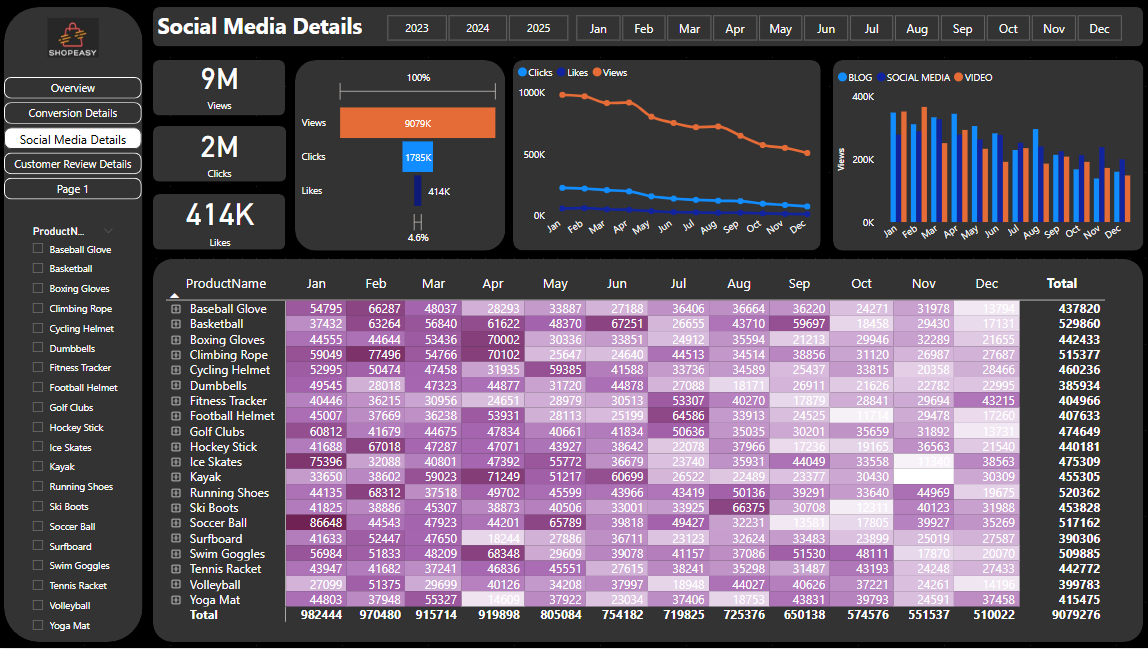

Layout of this report page (visuals, bound fields, positions):
{"tool":"powerbi","page":{"name":"Social Media Details","canvas":[1280,720],"ordinal":2},"visuals":[{"type":"shape","box":[172.1,288,1100.4,425.7],"z":0},{"type":"shape","box":[927.4,66.1,345.1,211.9],"z":1000},{"type":"shape","box":[172.1,8.2,1100.4,44.4],"z":2000},{"type":"shape","box":[172.1,66.1,146.7,61.6],"z":3000},{"type":"shape","box":[172.1,140.4,147.6,62.5],"z":4000},{"type":"card","fields":{"Values":["Key Measures.Clicks"]},"box":[185.7,131.3,121.4,71.5],"z":5000},{"type":"shape","box":[172.1,215.5,146.7,62.5],"z":6000},{"type":"card","fields":{"Values":["Key Measures.Views"]},"box":[197.4,55.2,96.9,72.5],"z":7000},{"type":"card","fields":{"Values":["Key Measures.Likes"]},"box":[182,207.4,128.6,70.6],"z":8000},{"type":"textbox","box":[172.1,6.3,255.4,55.2],"z":9000},{"type":"shape","box":[572.4,66.1,342.3,211.9],"z":10000},{"type":"lineChart","fields":{"Category":["Calendar.MonthNameShort"],"Y":["Key Measures.Clicks","Key Measures.Likes","Key Measures.Views"]},"box":[572.4,61.6,342.3,211.9],"z":11000},{"type":"clusteredColumnChart","fields":{"Category":["Calendar.MonthNameShort"],"Y":["Key Measures.Views"],"Series":["fact_engagement_data.ContentType"]},"box":[927.4,66.1,345.1,211.9],"z":12000},{"type":"shape","box":[329.7,66.1,233.7,211.9],"z":13000},{"type":"funnel","fields":{"Y":["Key Measures.Views","Key Measures.Clicks","Key Measures.Likes"]},"box":[332.4,71.5,230.9,206.5],"z":14000},{"type":"pivotTable","fields":{"Rows":["dim_products.ProductName","fact_engagement_data.ContentType"],"Columns":["Calendar.MonthNameShort"],"Values":["Key Measures.Views"]},"box":[181.1,298.9,1082.3,403.9],"z":15000},{"type":"shape","box":[6.3,8.2,154,705.5],"z":16000},{"type":"image","box":[49.8,8.2,67,67],"z":17000},{"type":"slicer","fields":{"Values":["dim_products.ProductName"]},"box":[18.1,324.2,129.5,389.4],"z":18000},{"type":"slicer","fields":{"Values":["Calendar.MonthNameShort"]},"box":[617.1,10.1,655.5,42.1],"z":19000},{"type":"slicer","fields":{"Values":["Calendar.Year"]},"box":[406.6,10,250.9,41.7],"z":20000},{"type":"pageNavigator","box":[11.8,174.8,143.1,138.6],"z":21000},{"type":"image","box":[55.2,96.9,55.2,50.7],"z":22000}]}

Visuals, with their boxes on the page's 1280x720 design canvas (x1, y1, x2, y2). These are canvas units, not pixel positions in the 1148x649 screenshot, which may show the page scaled, cropped or inside an application window:
shape: select_region(172, 288, 1272, 714)
shape: select_region(927, 66, 1272, 278)
shape: select_region(172, 8, 1272, 53)
shape: select_region(172, 66, 319, 128)
shape: select_region(172, 140, 320, 203)
card - Key Measures.Clicks: select_region(186, 131, 307, 203)
shape: select_region(172, 216, 319, 278)
card - Key Measures.Views: select_region(197, 55, 294, 128)
card - Key Measures.Likes: select_region(182, 207, 311, 278)
textbox: select_region(172, 6, 428, 62)
shape: select_region(572, 66, 915, 278)
lineChart - Calendar.MonthNameShort x Key Measures.Clicks: select_region(572, 62, 915, 274)
clusteredColumnChart - Calendar.MonthNameShort x Key Measures.Views: select_region(927, 66, 1272, 278)
shape: select_region(330, 66, 563, 278)
funnel - Key Measures.Views x Key Measures.Clicks: select_region(332, 72, 563, 278)
pivotTable - dim_products.ProductName x fact_engagement_data.ContentType: select_region(181, 299, 1263, 703)
shape: select_region(6, 8, 160, 714)
image: select_region(50, 8, 117, 75)
slicer - dim_products.ProductName: select_region(18, 324, 148, 714)
slicer - Calendar.MonthNameShort: select_region(617, 10, 1273, 52)
slicer - Calendar.Year: select_region(407, 10, 658, 52)
pageNavigator: select_region(12, 175, 155, 313)
image: select_region(55, 97, 110, 148)
